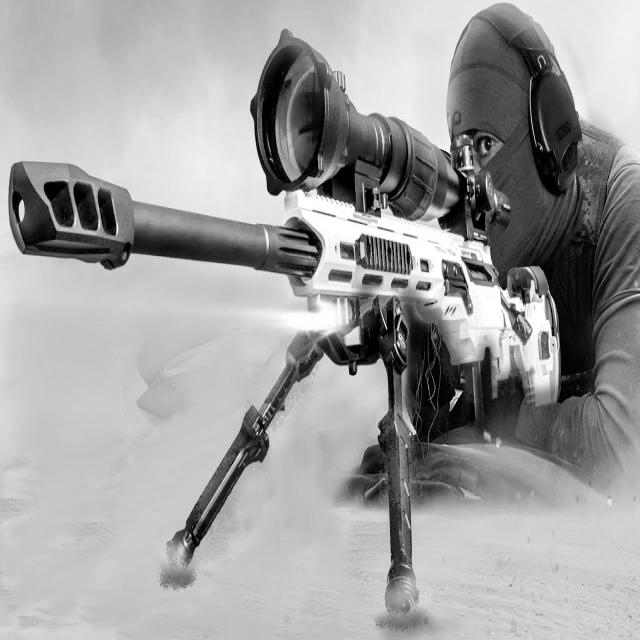Sniper: (9, 14, 569, 586)
